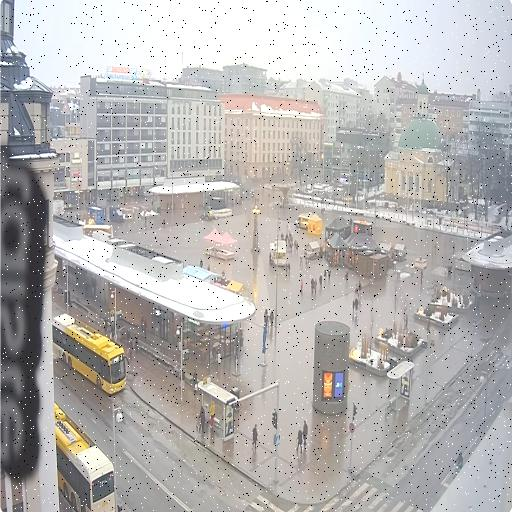Bus: (55, 402, 114, 511), (53, 314, 128, 394)
